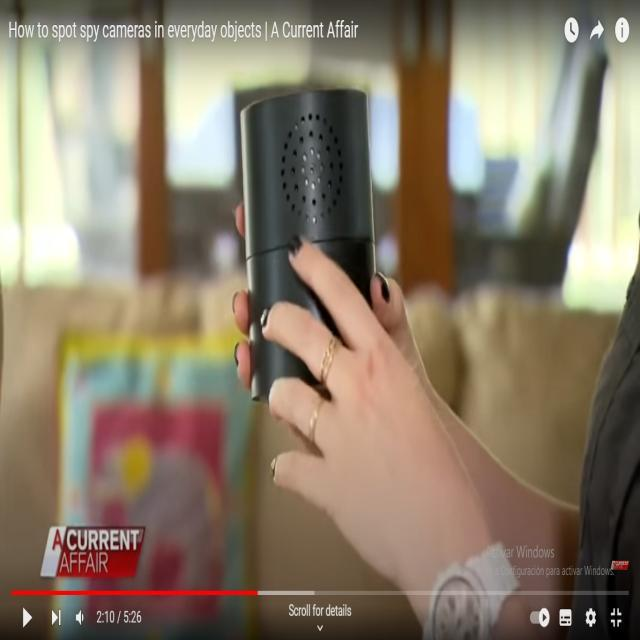hidden camera: (309, 168, 314, 174)
